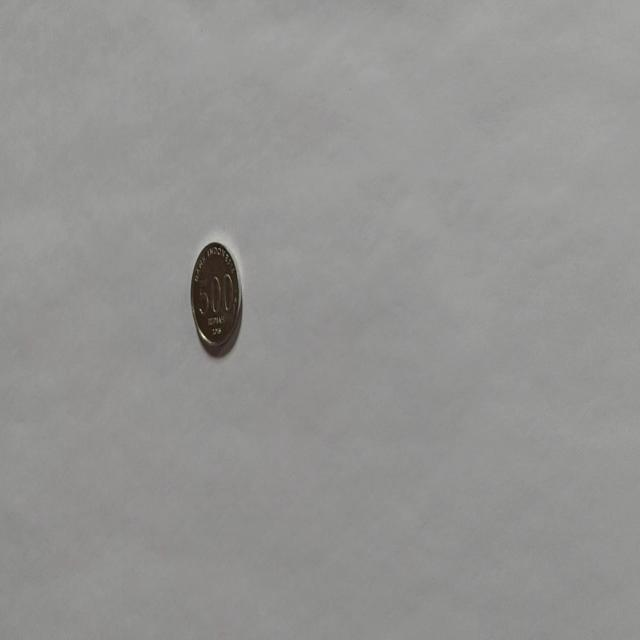lima ratus rupiah: (189, 239, 243, 355)
